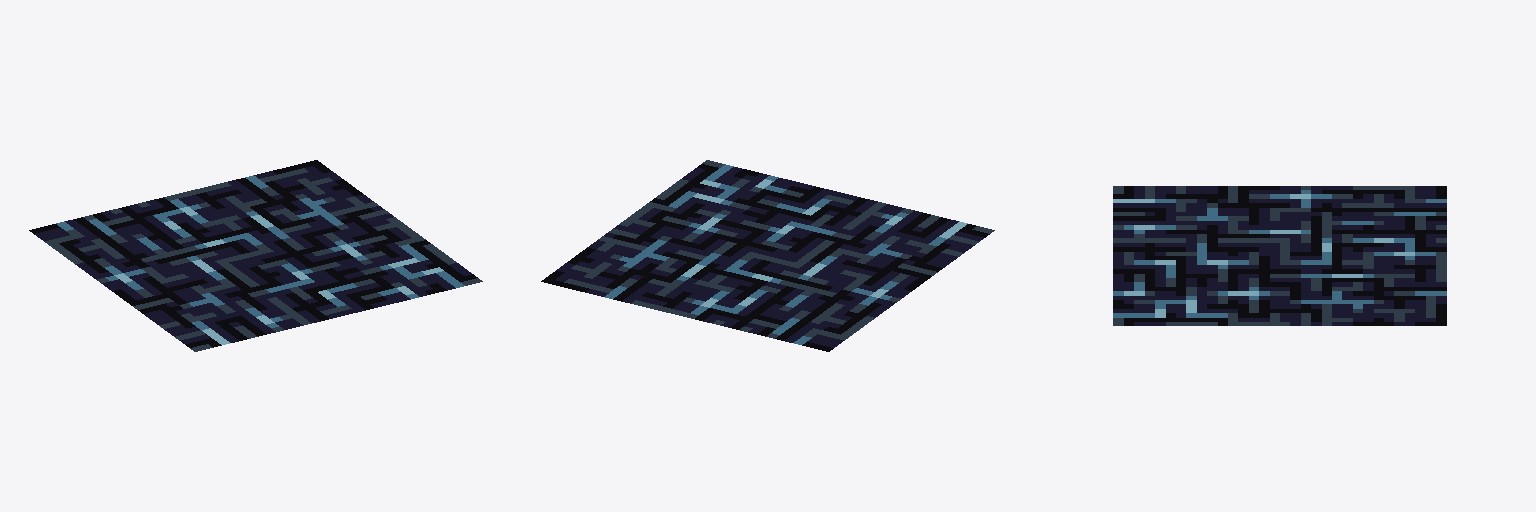
3 renders of one model, left to right at view 1: azimuth 30°, elevation 25°; view 2: azimuth 150°, elevation 25°; view 3: azimuth 270°, elevation 25°, orthographic.
Visible parts, largest first — view 1: Plane; view 2: Plane; view 3: Plane.
Part boxes in pixels (x1,y1,x2,y2): Plane: (29,160,482,351); Plane: (541,160,994,351); Plane: (1113,186,1446,325).
Size of the model in its own units: 2 by 0 by 2.
Materials: 1 (1 with a texture image).